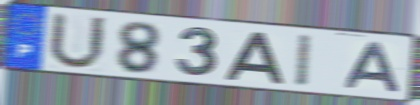3: (174, 25, 220, 79)
8: (114, 20, 163, 75)
A: (221, 30, 287, 85), (343, 41, 404, 95)
I: (294, 32, 314, 89)
U: (45, 11, 109, 72)
